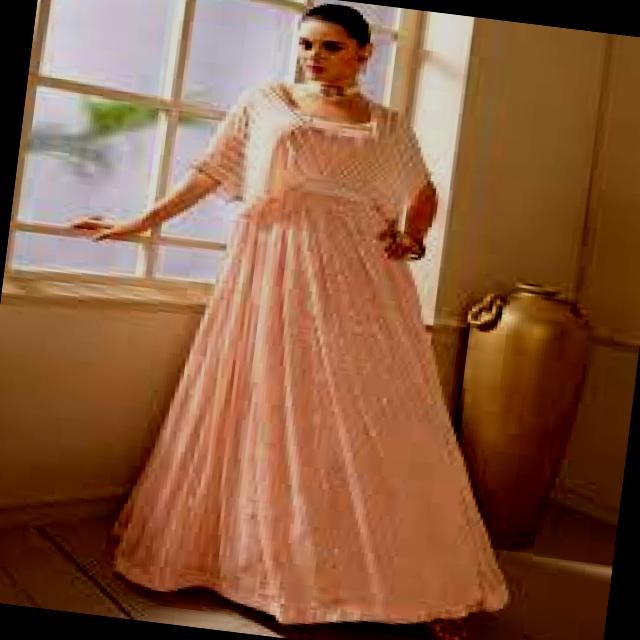dress: (110, 86, 507, 625)
